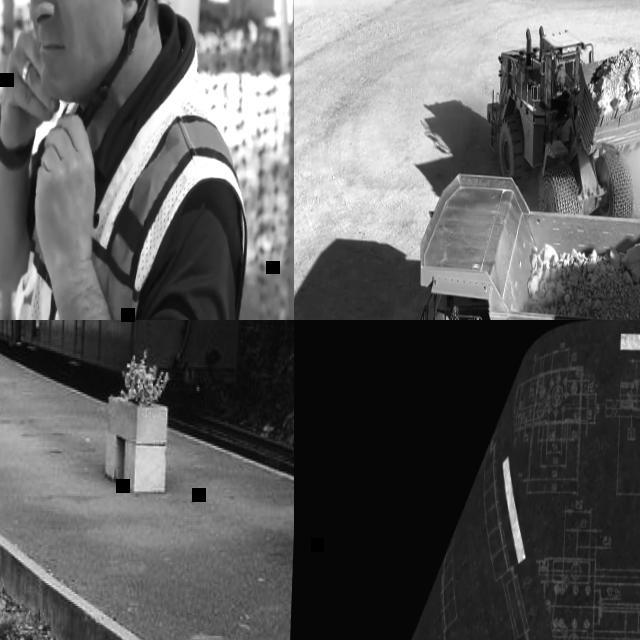NO-Hardhat: (559, 62, 565, 69)
NO-Mask: (24, 0, 115, 106)
NO-Safety Vest: (558, 72, 565, 85)
Person: (0, 0, 264, 320), (556, 61, 572, 87)
Safety Vest: (10, 43, 255, 320)
machinery: (389, 166, 640, 320), (482, 20, 640, 219)
